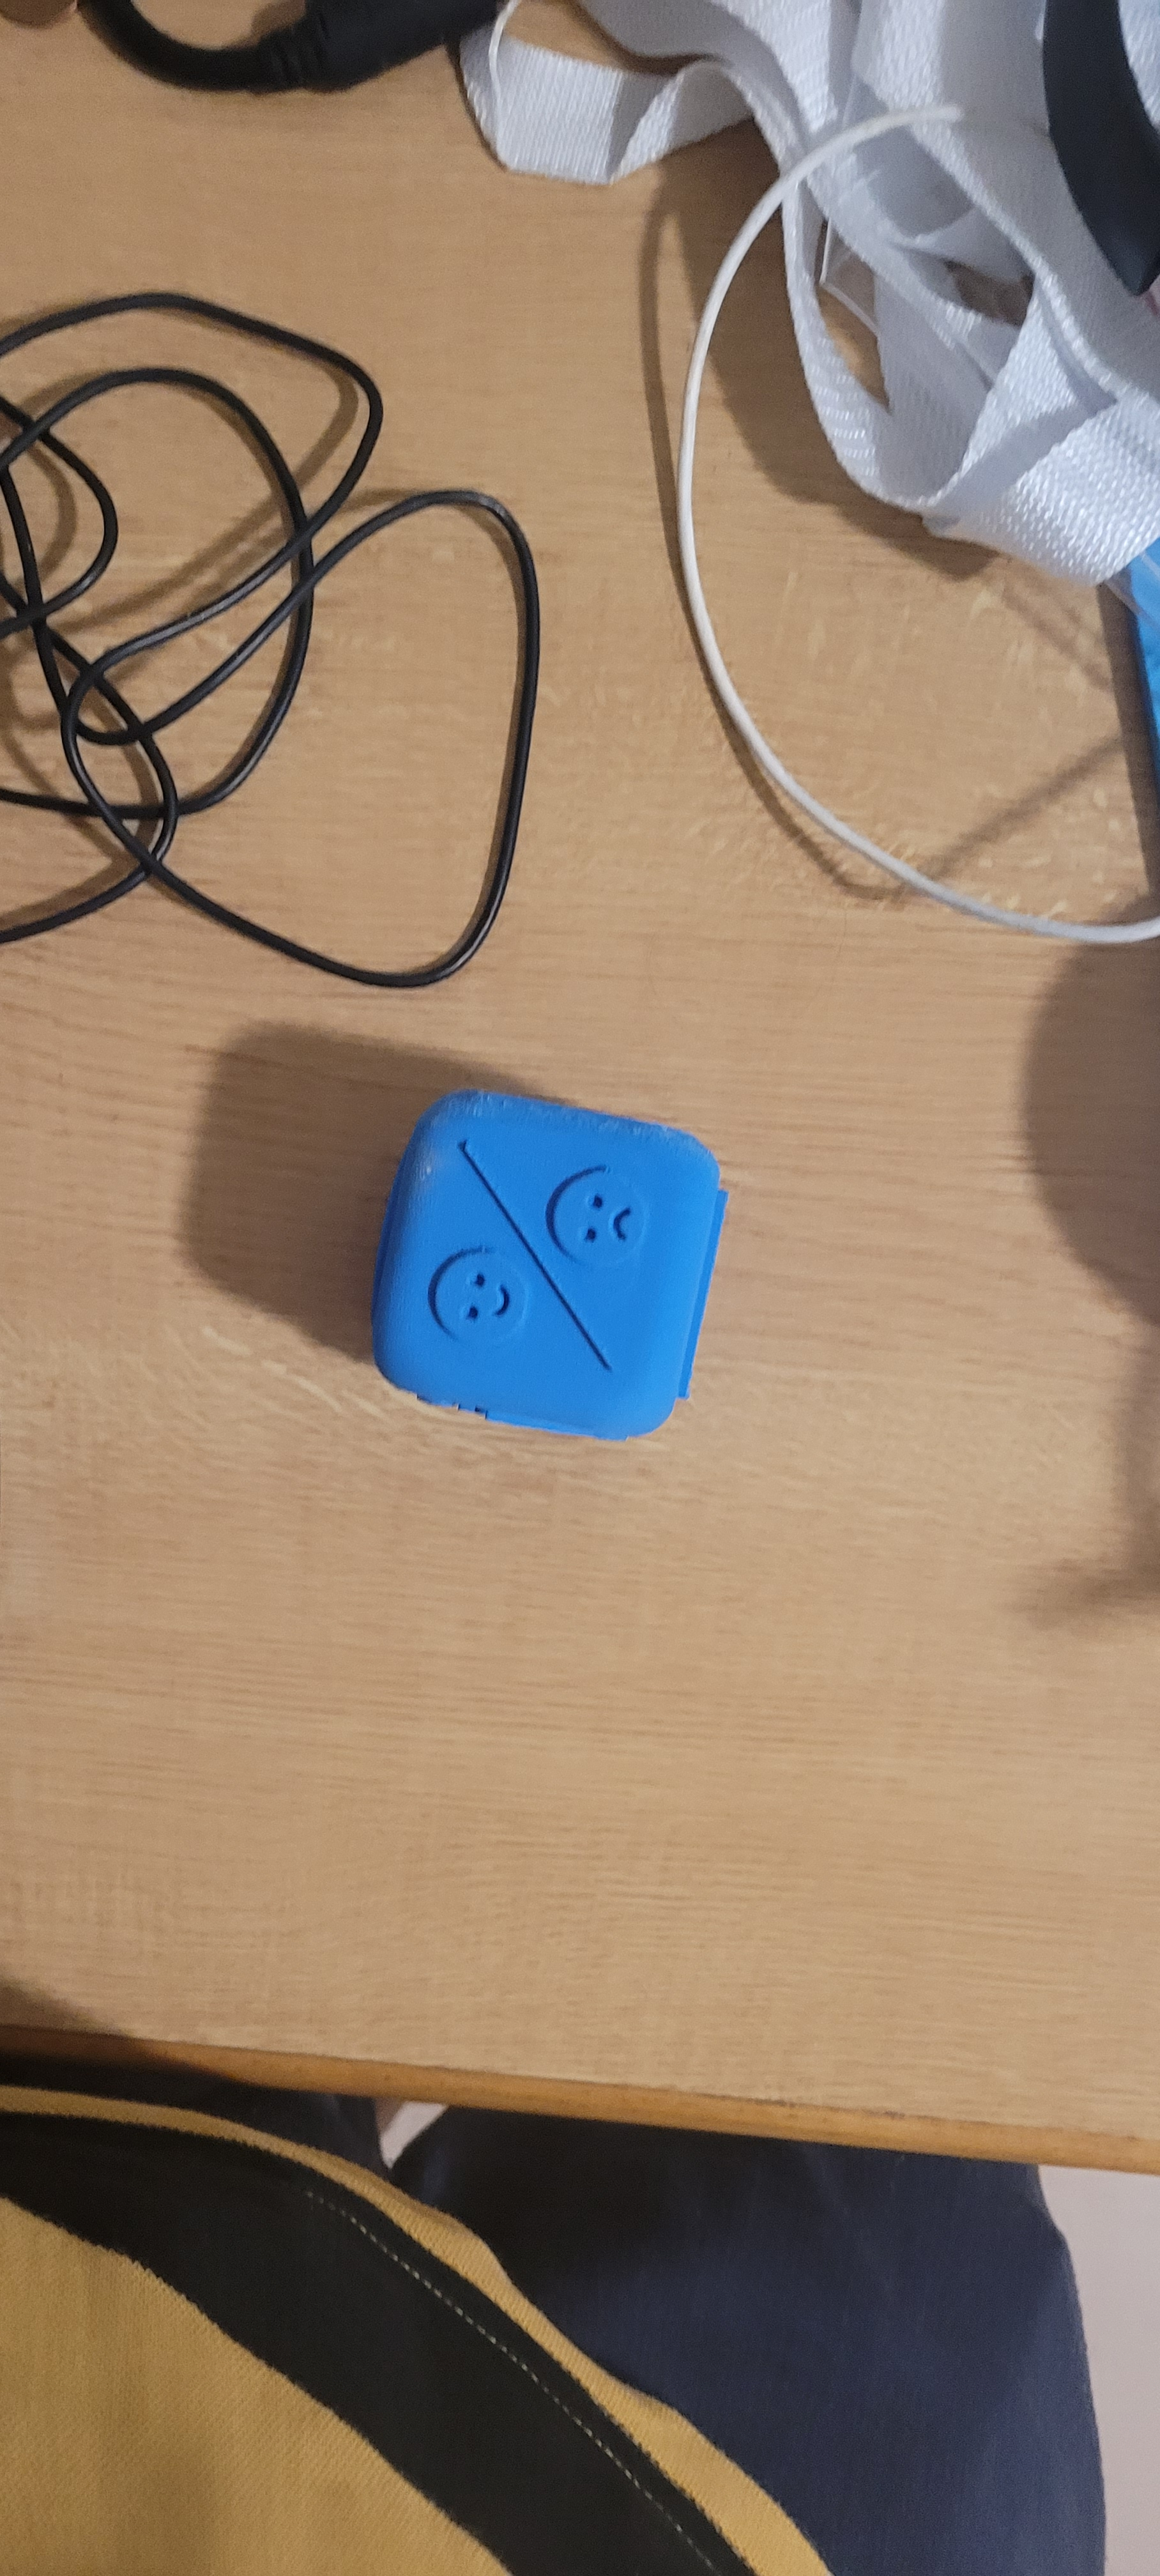Like/Dislike: (407, 1109, 679, 1391)
